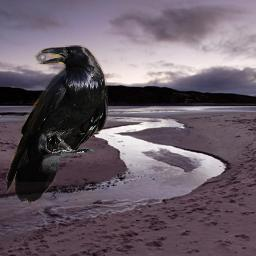Crow: (6, 45, 109, 204)
